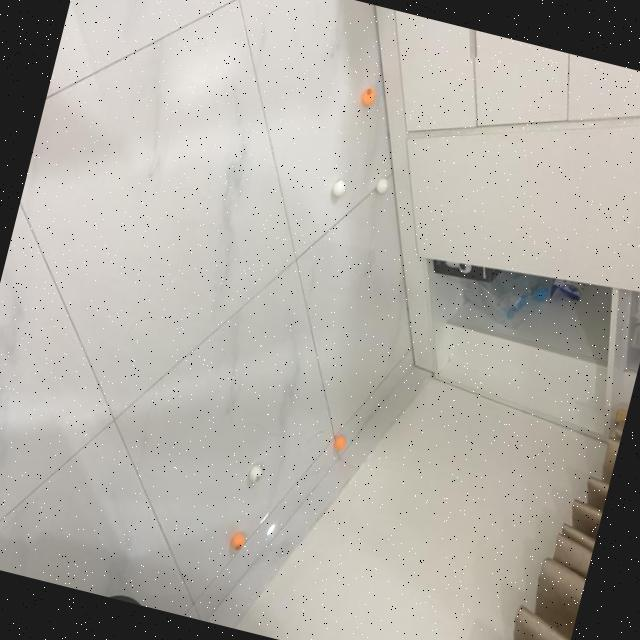ping-pong-ball: (359, 84, 379, 107), (228, 528, 248, 551), (330, 178, 348, 198), (248, 462, 266, 482), (374, 176, 392, 194), (332, 432, 348, 450)
